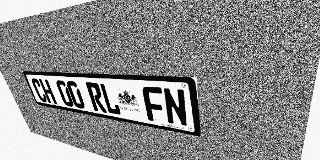0: (65, 81, 86, 109), (55, 80, 75, 107)
C: (30, 78, 48, 103)
F: (141, 86, 167, 123)
H: (39, 79, 57, 104)
L: (99, 83, 122, 116)
N: (162, 87, 188, 127)
R: (85, 82, 107, 113)
